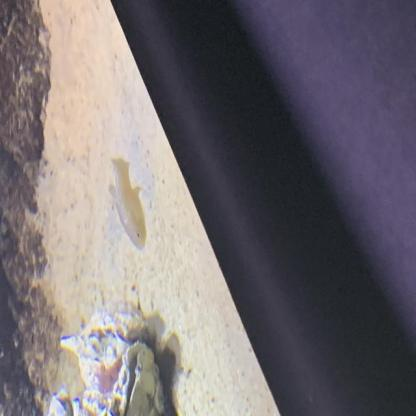fish: (104, 155, 146, 249)
